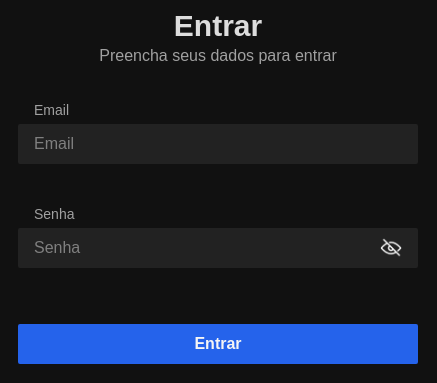
it: Login Component › Should have an error if email is not valid and password is empty
Step 1. Type "notValid" into the field with placeholder "Email" → {"x": 218, "y": 144}, box x1=18 y1=124 x2=418 y2=164
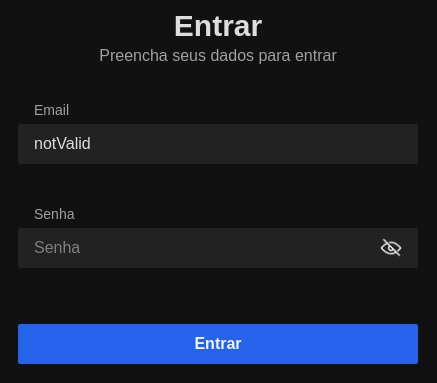
Step 2. Click the button "Entrar" → {"x": 218, "y": 344}, box x1=18 y1=324 x2=418 y2=364
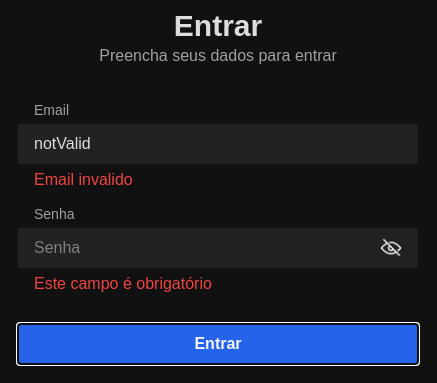
Result: the text "Email invalido" is shown at x1=34 y1=171 x2=133 y2=188
Result: the text "Este campo é obrigatório" is shown at x1=34 y1=275 x2=212 y2=292
